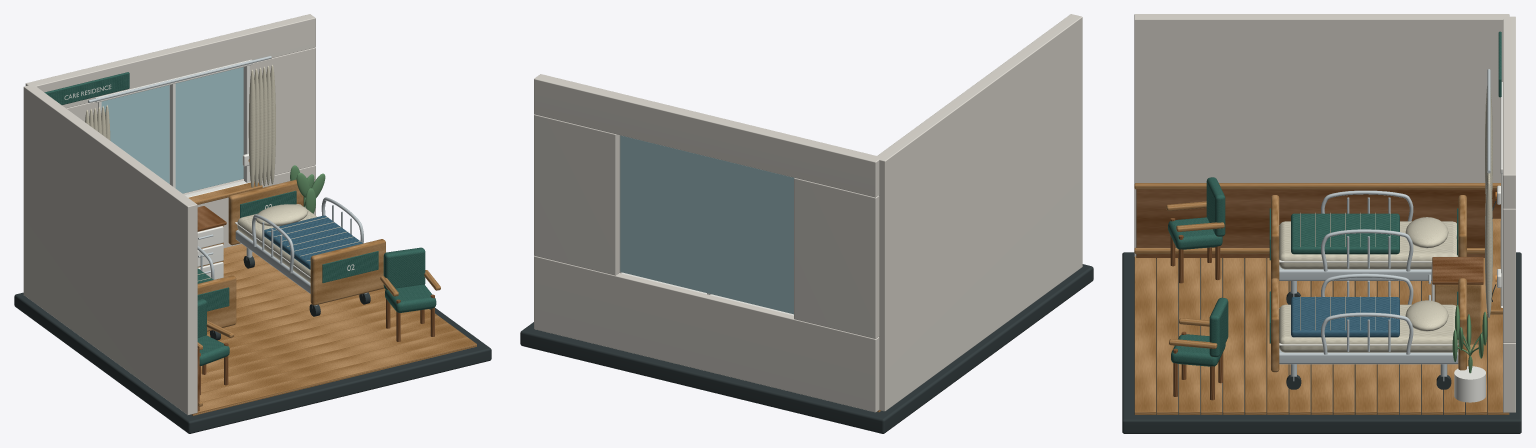
File: care-room.glb
The picture shows the model from 3 angles, left to right: view 1: azimuth 30°, elevation 25°; view 2: azimuth 150°, elevation 25°; view 3: azimuth 270°, elevation 25°; orthographic projection. The views are drawn at different scales.
Parts seen in each view (by area): view 1: Architecture_Mesh, CareBed_2_Mesh, UpholsteredArmchair.001_Mesh, CareBed_1_Mesh, StorageCabinet_Mesh, UpholsteredArmchair_Mesh, Plant_Mesh; view 2: Architecture_Mesh; view 3: Architecture_Mesh, CareBed_2_Mesh, CareBed_1_Mesh, UpholsteredArmchair_Mesh, UpholsteredArmchair.001_Mesh, StorageCabinet_Mesh, Plant_Mesh.
Part boxes in pixels (left/top/right/bottom): Architecture_Mesh: left=14, top=14, right=491, bottom=433; CareBed_2_Mesh: left=228, top=179, right=385, bottom=316; UpholsteredArmchair.001_Mesh: left=380, top=247, right=440, bottom=341; CareBed_1_Mesh: left=197, top=246, right=236, bottom=340; StorageCabinet_Mesh: left=197, top=206, right=226, bottom=279; UpholsteredArmchair_Mesh: left=197, top=299, right=233, bottom=394; Plant_Mesh: left=290, top=165, right=325, bottom=213; Architecture_Mesh: left=520, top=14, right=1093, bottom=433; Architecture_Mesh: left=1122, top=14, right=1521, bottom=433; CareBed_2_Mesh: left=1269, top=273, right=1466, bottom=389; CareBed_1_Mesh: left=1269, top=190, right=1466, bottom=304; UpholsteredArmchair_Mesh: left=1166, top=177, right=1225, bottom=283; UpholsteredArmchair.001_Mesh: left=1169, top=297, right=1228, bottom=400; StorageCabinet_Mesh: left=1428, top=257, right=1483, bottom=344; Plant_Mesh: left=1452, top=305, right=1487, bottom=402.
Bounding box in the file's own units: 4.26 × 3 × 4.26.
12 materials, 5 textured.
